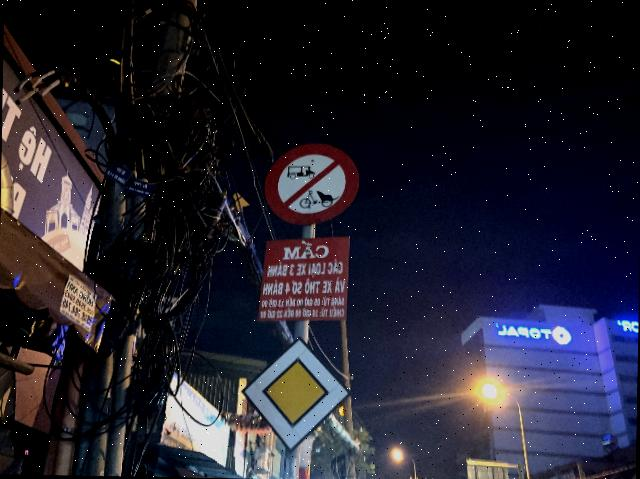bat-dau-duong-uu-tien: (239, 335, 352, 453)
cam-xe-3-banh-xe-tho-so-4-banh: (263, 141, 360, 224)
